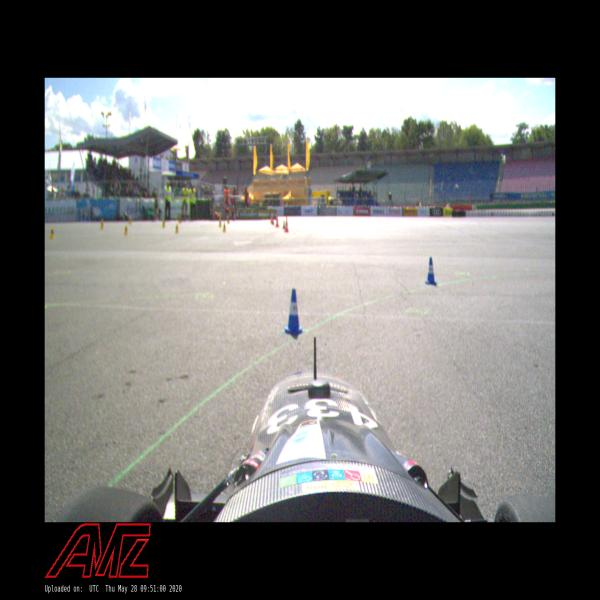blue_cone: (283, 288, 305, 336), (424, 256, 438, 284)
large_orange_cone: (284, 216, 289, 232), (275, 213, 280, 227), (270, 211, 274, 223)
orange_cone: (282, 220, 286, 229), (272, 216, 274, 224)
yellow_cone: (49, 226, 55, 239), (100, 219, 104, 230), (222, 222, 226, 232), (175, 224, 179, 234), (124, 224, 128, 234), (162, 219, 165, 228)
